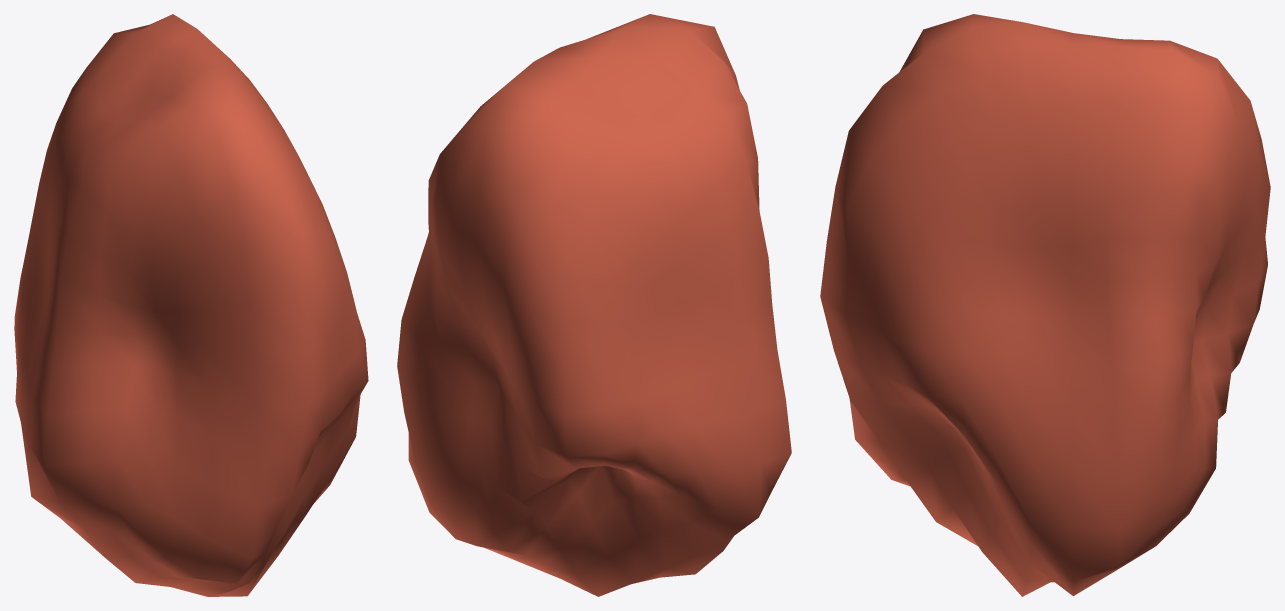
File: rock3.fbx
3 views of the same model, side by side, from view 1: azimuth 30°, elevation 25°; view 2: azimuth 150°, elevation 25°; view 3: azimuth 270°, elevation 25° (orthographic). The views are drawn at different scales.
Visible parts, largest first — view 1: Cube; view 2: Cube; view 3: Cube.
Boxes of the visible parts, <box> form: Cube: <box>14,14,368,596</box>; Cube: <box>397,14,791,596</box>; Cube: <box>820,14,1270,596</box>.
Size of the model in its own units: 389 by 623 by 459.
